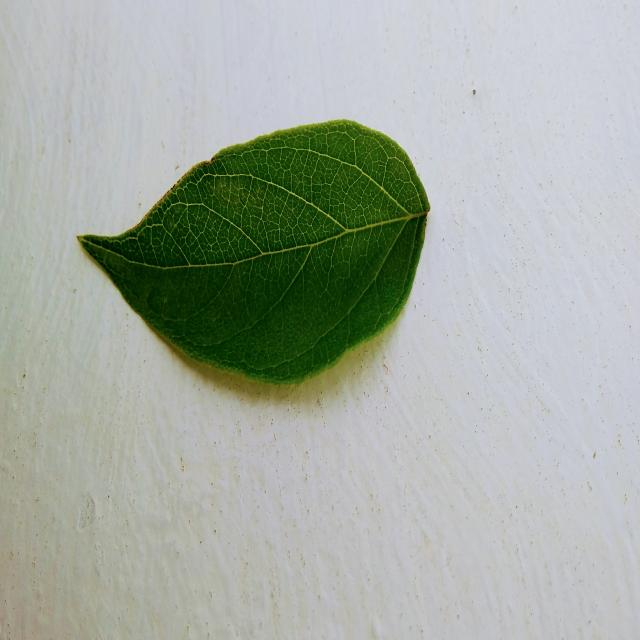Parijatha: (79, 120, 430, 384)
